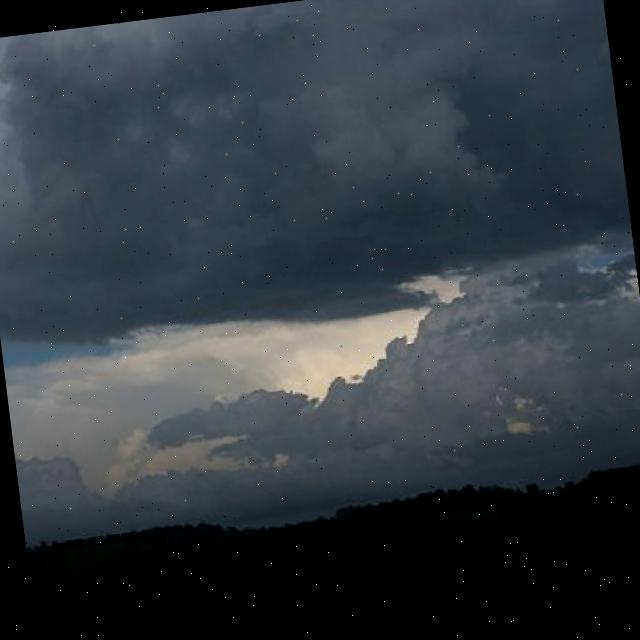St: (1, 1, 639, 367)
